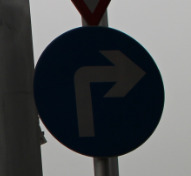right_turn: (32, 25, 164, 157)
